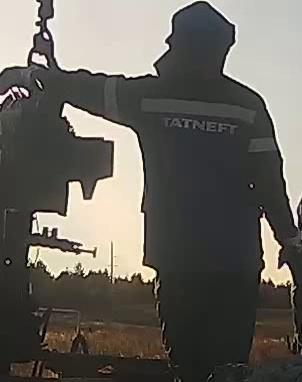gloves: (274, 227, 302, 288)
vest: (107, 72, 282, 250)
